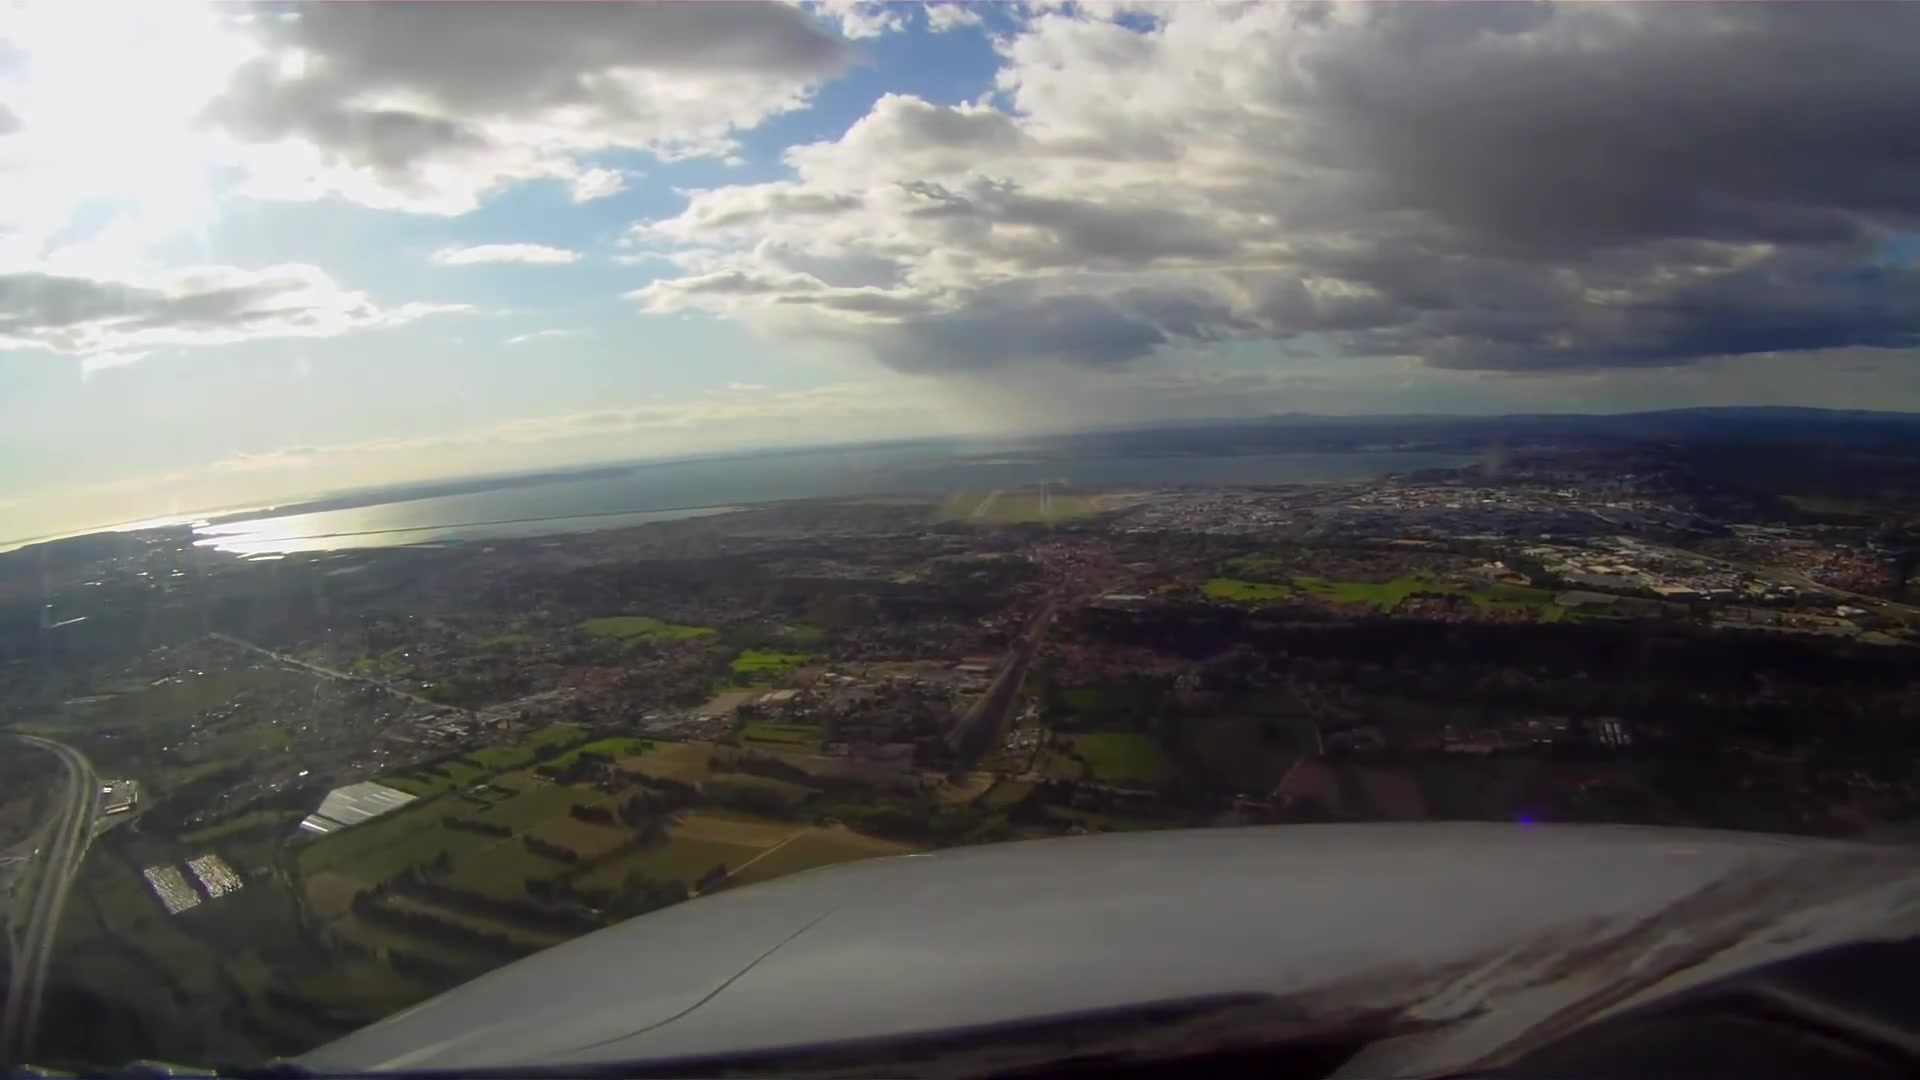runway: (969, 488, 1006, 517), (1038, 480, 1054, 516)
